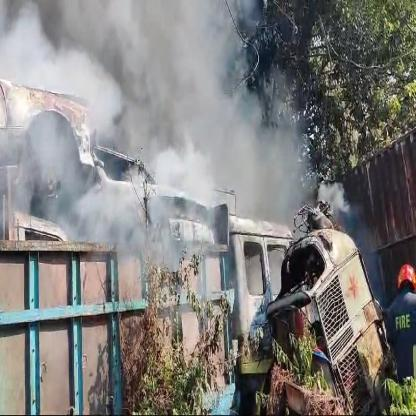Smoke: (0, 0, 383, 299)
